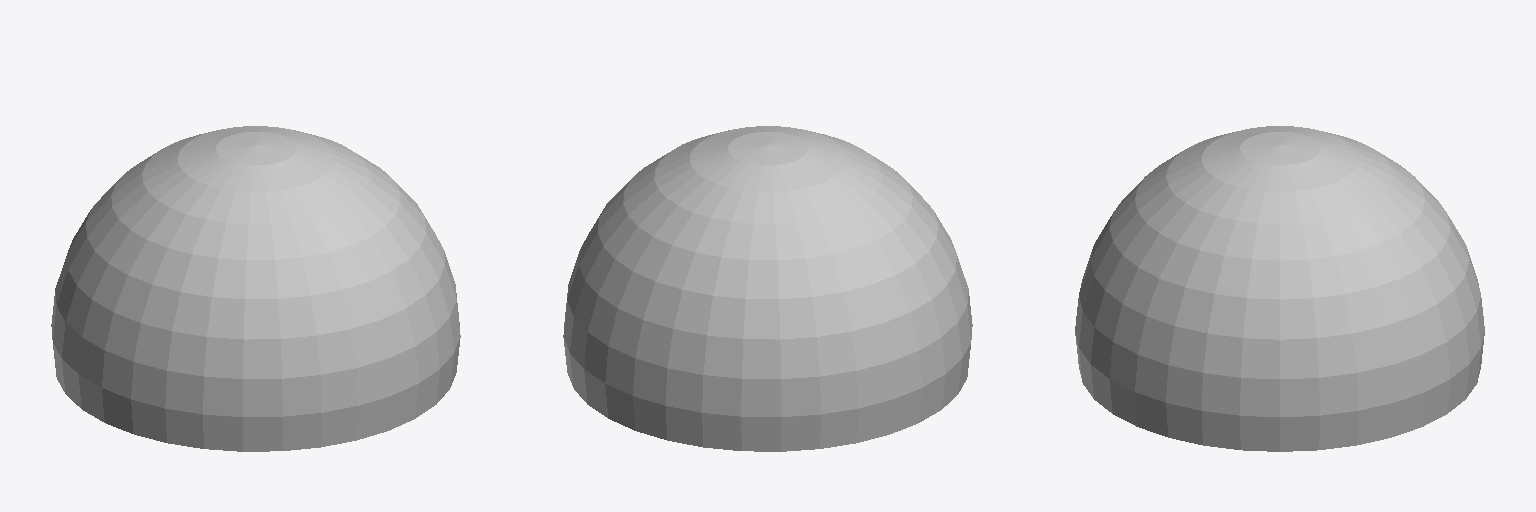
Rendered from esfera.obj.
3 renders of one model, left to right at view 1: azimuth 30°, elevation 25°; view 2: azimuth 150°, elevation 25°; view 3: azimuth 270°, elevation 25°, orthographic.
Parts seen in each view (by area): view 1: Sphere; view 2: Sphere; view 3: Sphere.
Part boxes in pixels (x1,y1,x2,y2): Sphere: (51,126,460,451); Sphere: (563,126,972,451); Sphere: (1075,126,1484,451).
Size of the model in its own units: 17.52 by 10.47 by 17.52.